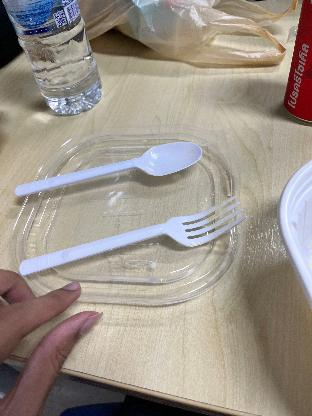Others: (16, 193, 256, 284), (14, 134, 210, 214)
Plastic Bottle: (9, 0, 104, 120)
